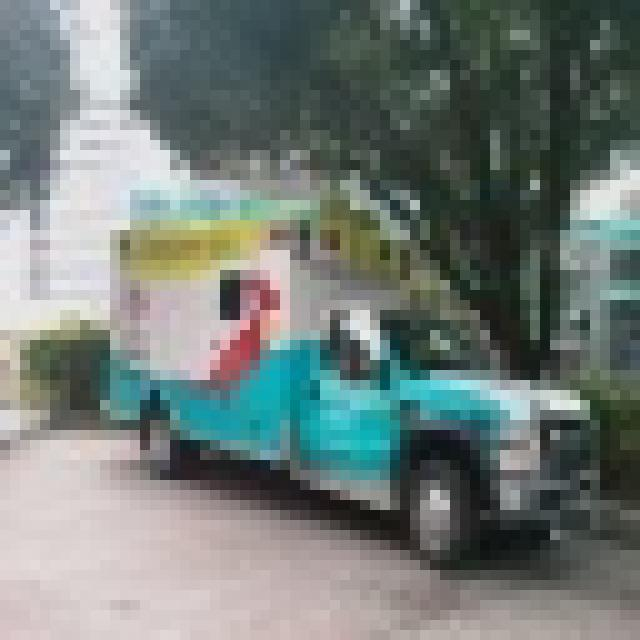Ambulance: (90, 160, 600, 560)
